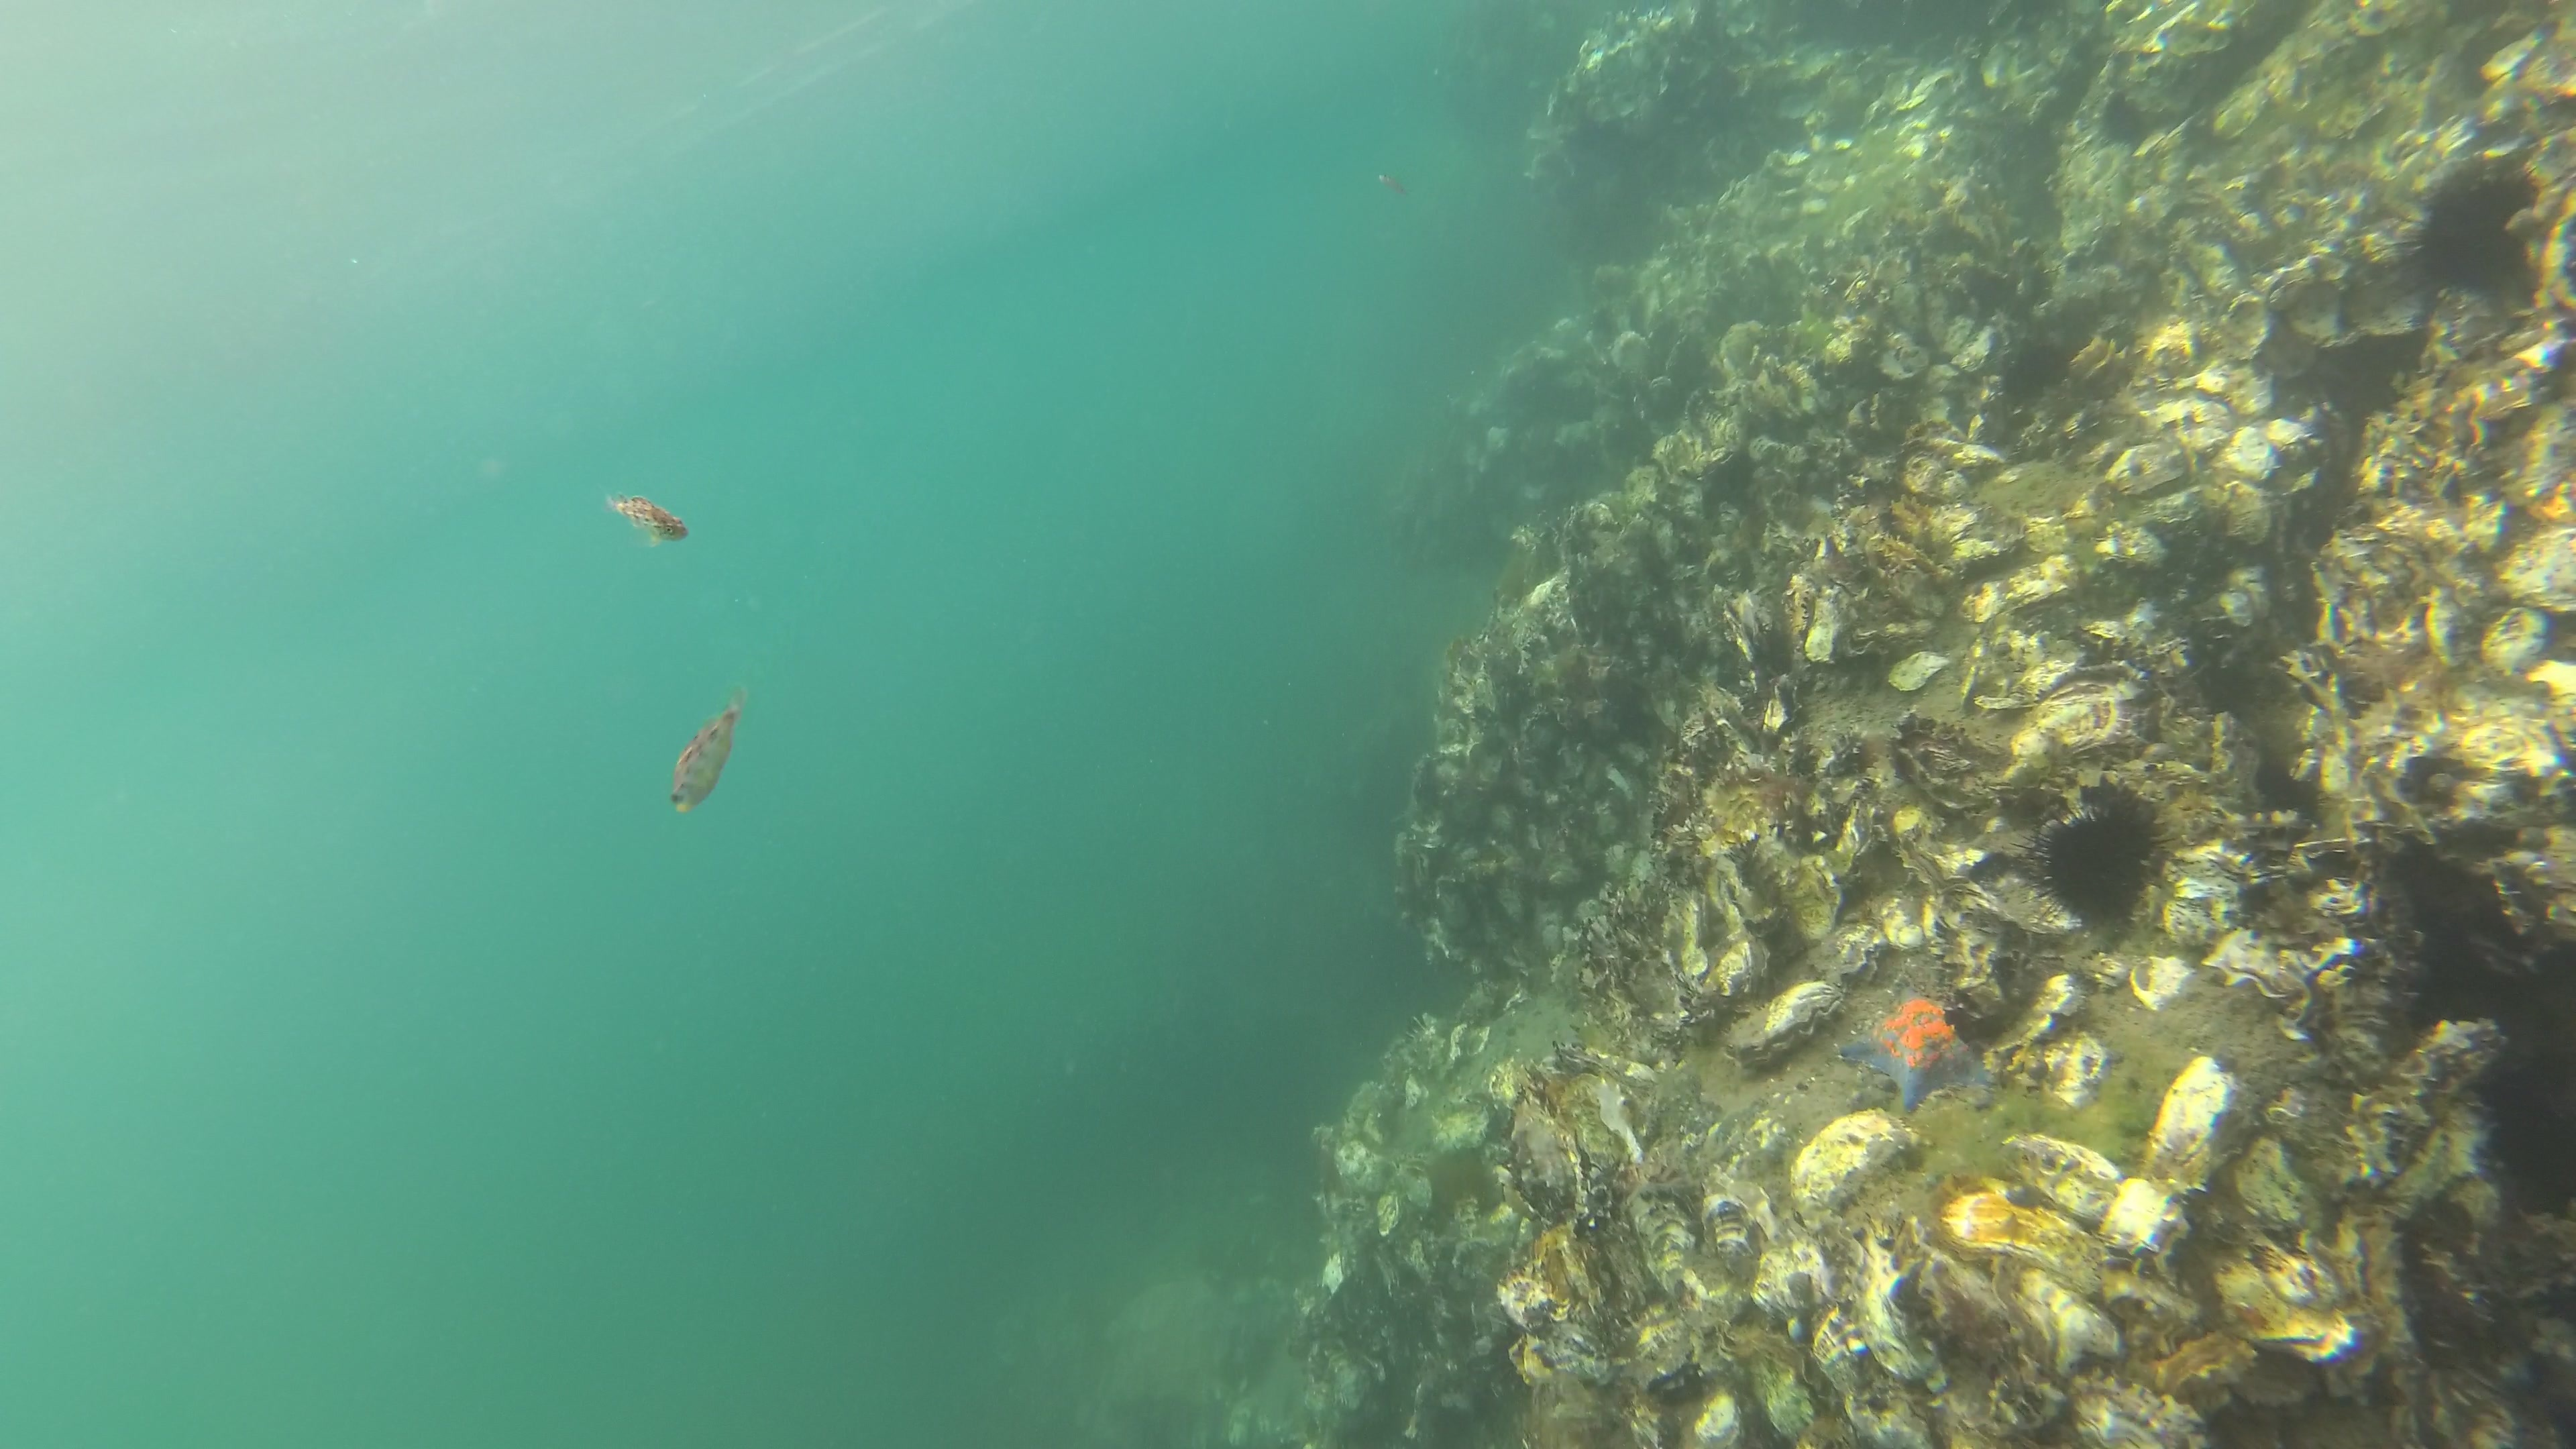echinus: (2029, 798, 2176, 936), (2413, 168, 2537, 301), (2006, 343, 2070, 400), (2268, 768, 2325, 816), (2104, 99, 2146, 147)
starfish: (1849, 991, 1996, 1113)
